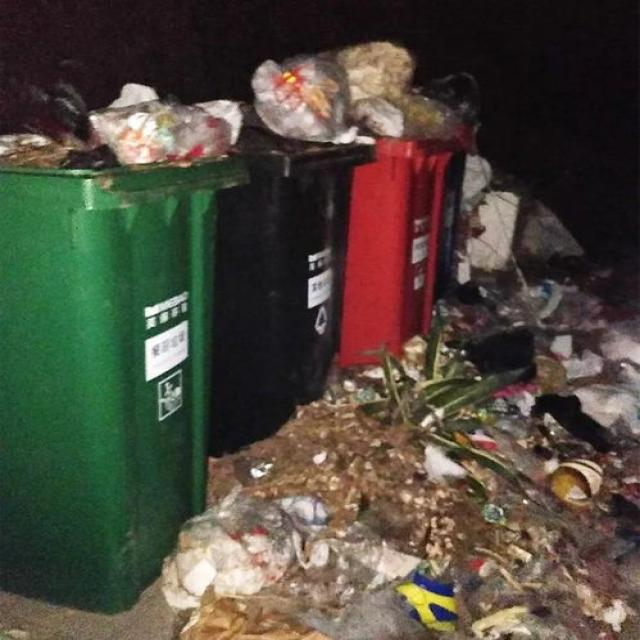garbage: (165, 155, 639, 639)
overflow: (0, 82, 248, 612), (208, 56, 376, 457), (341, 42, 457, 365)
